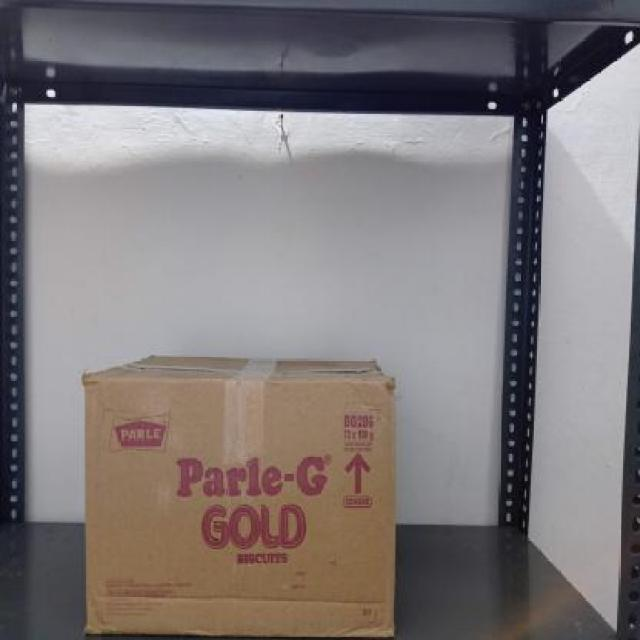box: (87, 377, 396, 631)
